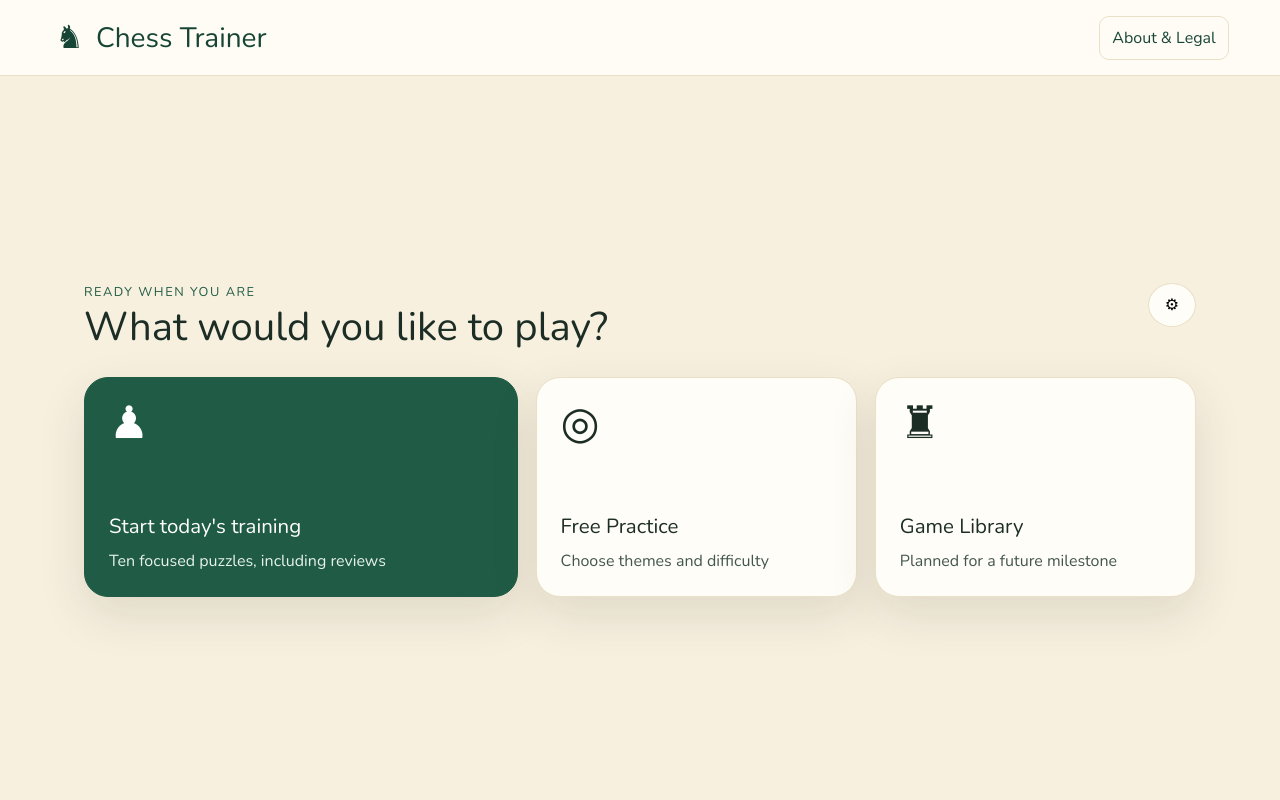
opens the board-first puzzle screen from the home hub
Click the button "Start today's training" at (129, 424), box top-left (84, 377), bottom-right (518, 597)
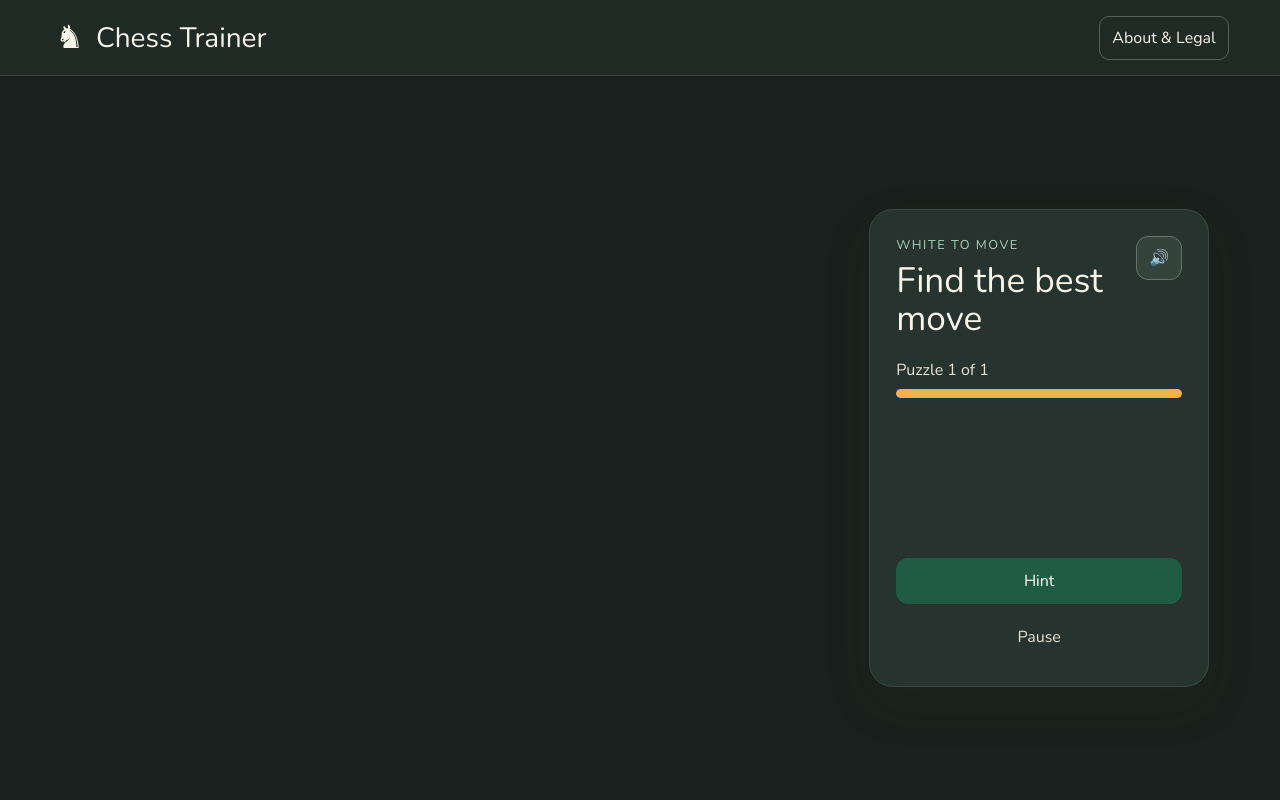
expect the heading "Find the best move" is shown: met, box top-left (896, 261), bottom-right (1120, 337)
